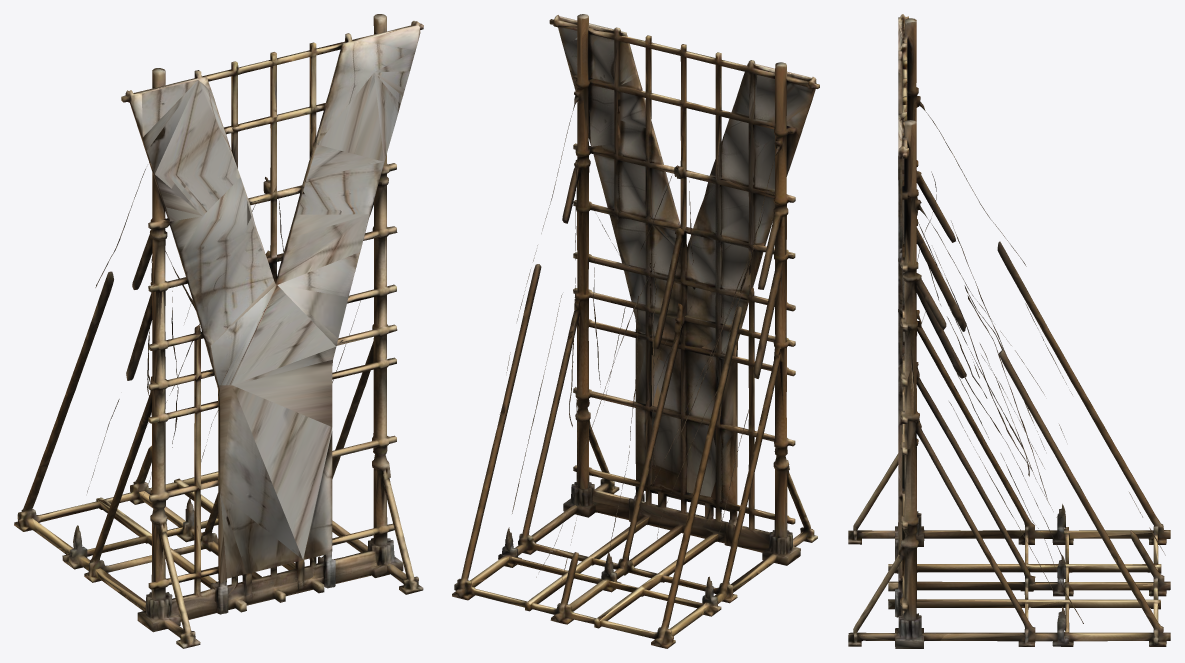
Rendered from sign-letter-Y.glb.
3 views of the same model, side by side, from view 1: azimuth 30°, elevation 25°; view 2: azimuth 150°, elevation 25°; view 3: azimuth 270°, elevation 25° (orthographic). The views are drawn at different scales.
Visible parts, largest first — view 1: model; view 2: model; view 3: model.
Boxes of the visible parts, x1=… form: model: x1=14, y1=14, x2=423, y2=648; model: x1=452, y1=14, x2=819, y2=648; model: x1=848, y1=14, x2=1170, y2=648.
Size of the model in its own units: 7.62 by 13.4 by 7.54.
1 material, 1 textured.
